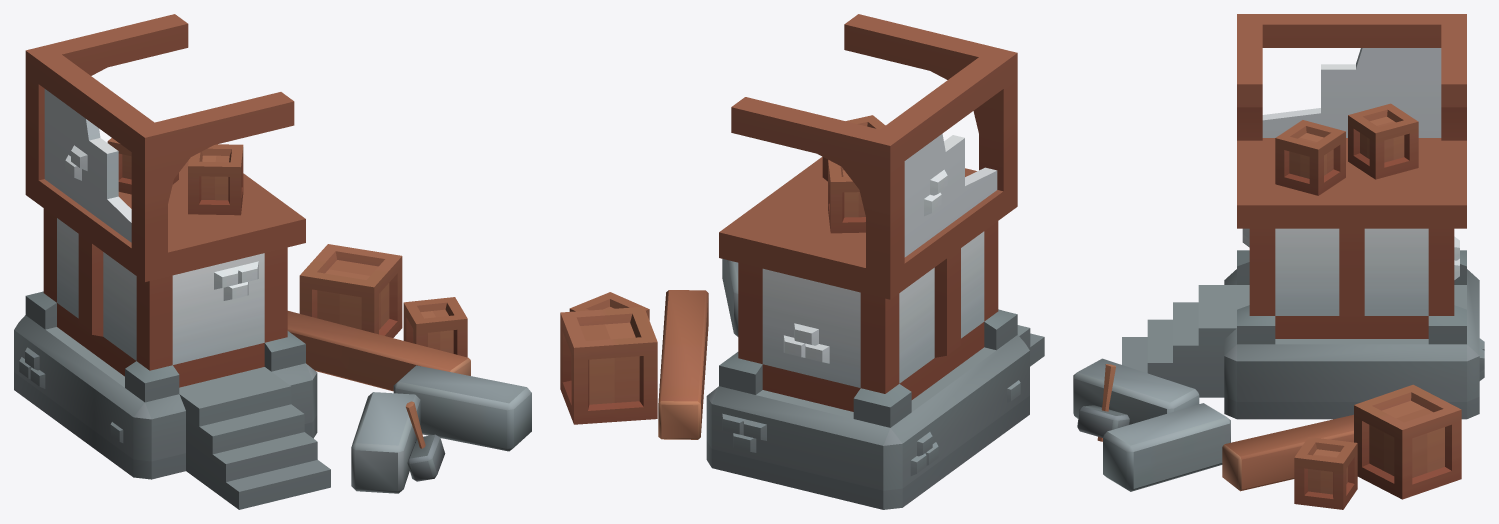
The model's file is kay-obra-telhado.gltf.
The picture shows the model from 3 angles, left to right: view 1: azimuth 30°, elevation 25°; view 2: azimuth 150°, elevation 25°; view 3: azimuth 270°, elevation 25°; orthographic projection. The views are drawn at different scales.
Visible parts, largest first — view 1: building_stage_C; view 2: building_stage_C; view 3: building_stage_C.
Boxes of the visible parts, x1=… form: building_stage_C: x1=14, y1=14, x2=531, y2=509; building_stage_C: x1=560, y1=14, x2=1044, y2=509; building_stage_C: x1=1073, y1=14, x2=1484, y2=509.
Bounding box in the file's own units: 5.8 × 4.93 × 5.64.
Materials: 1 (1 with a texture image).
